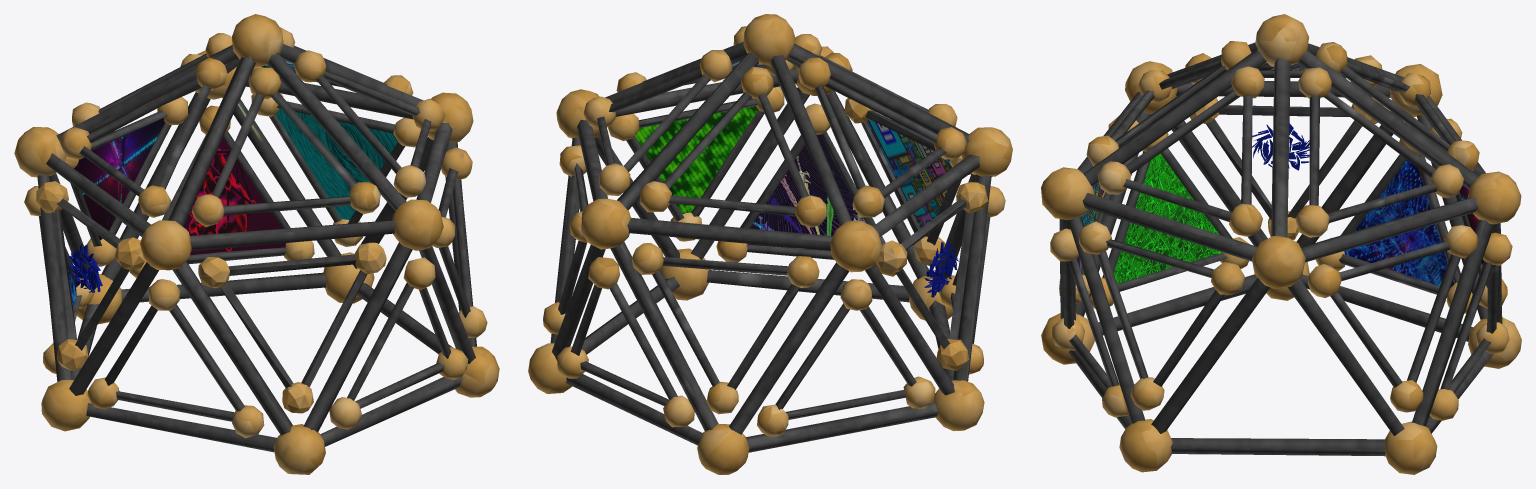
Rendered from arashi_geobooth.glb.
3 renders of one model, left to right at view 1: azimuth 30°, elevation 25°; view 2: azimuth 150°, elevation 25°; view 3: azimuth 270°, elevation 25°, orthographic. The views are drawn at different scales.
Parts seen in each view (by area): view 1: GeoBooth V1; view 2: GeoBooth V1; view 3: GeoBooth V1.
Boxes of the visible parts, bbox=[...] form: GeoBooth V1: bbox=[14, 14, 499, 474]; GeoBooth V1: bbox=[528, 14, 1012, 474]; GeoBooth V1: bbox=[1041, 14, 1521, 474].
Size of the model in its own units: 8.23 by 6.83 by 7.86.
Materials: 1 (1 with a texture image).
